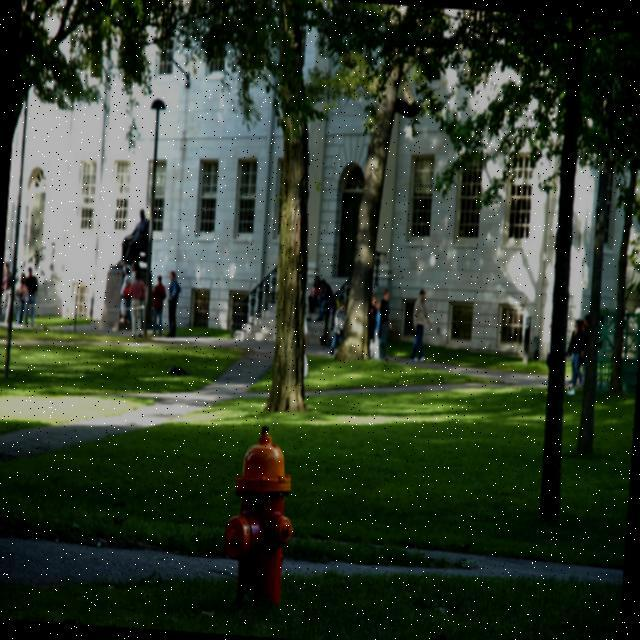fire_hydrant: (218, 422, 298, 605)
